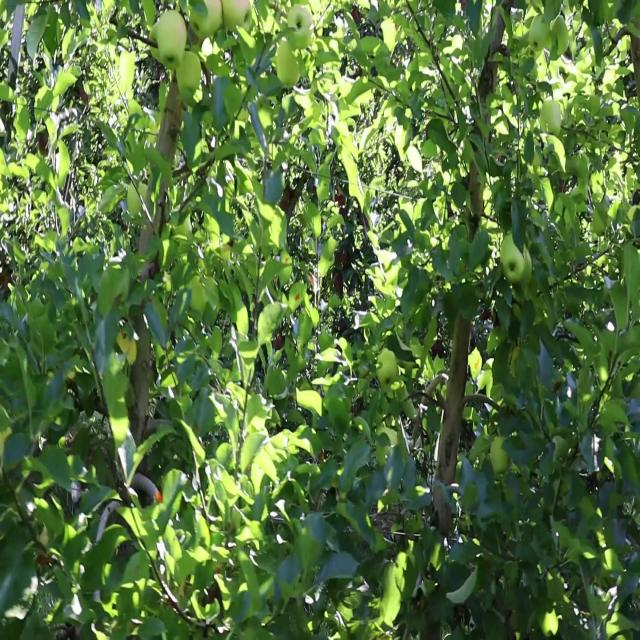apple: (157, 9, 186, 69), (190, 0, 222, 40), (499, 235, 524, 282), (287, 4, 314, 46), (177, 51, 201, 98), (276, 42, 300, 88), (223, 0, 253, 33), (528, 13, 551, 52), (540, 98, 562, 134), (490, 435, 509, 476), (377, 350, 397, 388), (551, 16, 570, 56), (127, 182, 148, 217), (219, 35, 219, 43)
